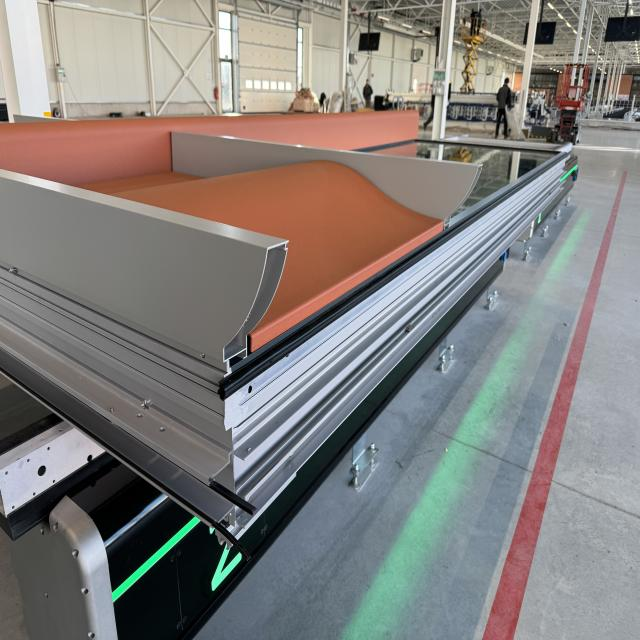vijak_labav: (4, 261, 22, 282)
vijak_nedostaje: (195, 345, 209, 367)
